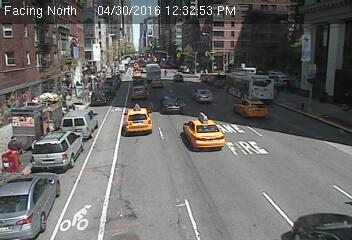neg: (258, 178, 280, 207), (293, 150, 312, 175), (88, 148, 107, 173), (216, 95, 231, 115), (167, 195, 179, 212), (196, 142, 207, 157), (201, 56, 210, 69), (125, 124, 134, 136), (132, 45, 141, 56), (84, 200, 92, 210), (156, 40, 161, 48), (107, 57, 112, 63)
pos: (1, 132, 22, 161), (162, 67, 169, 76)
